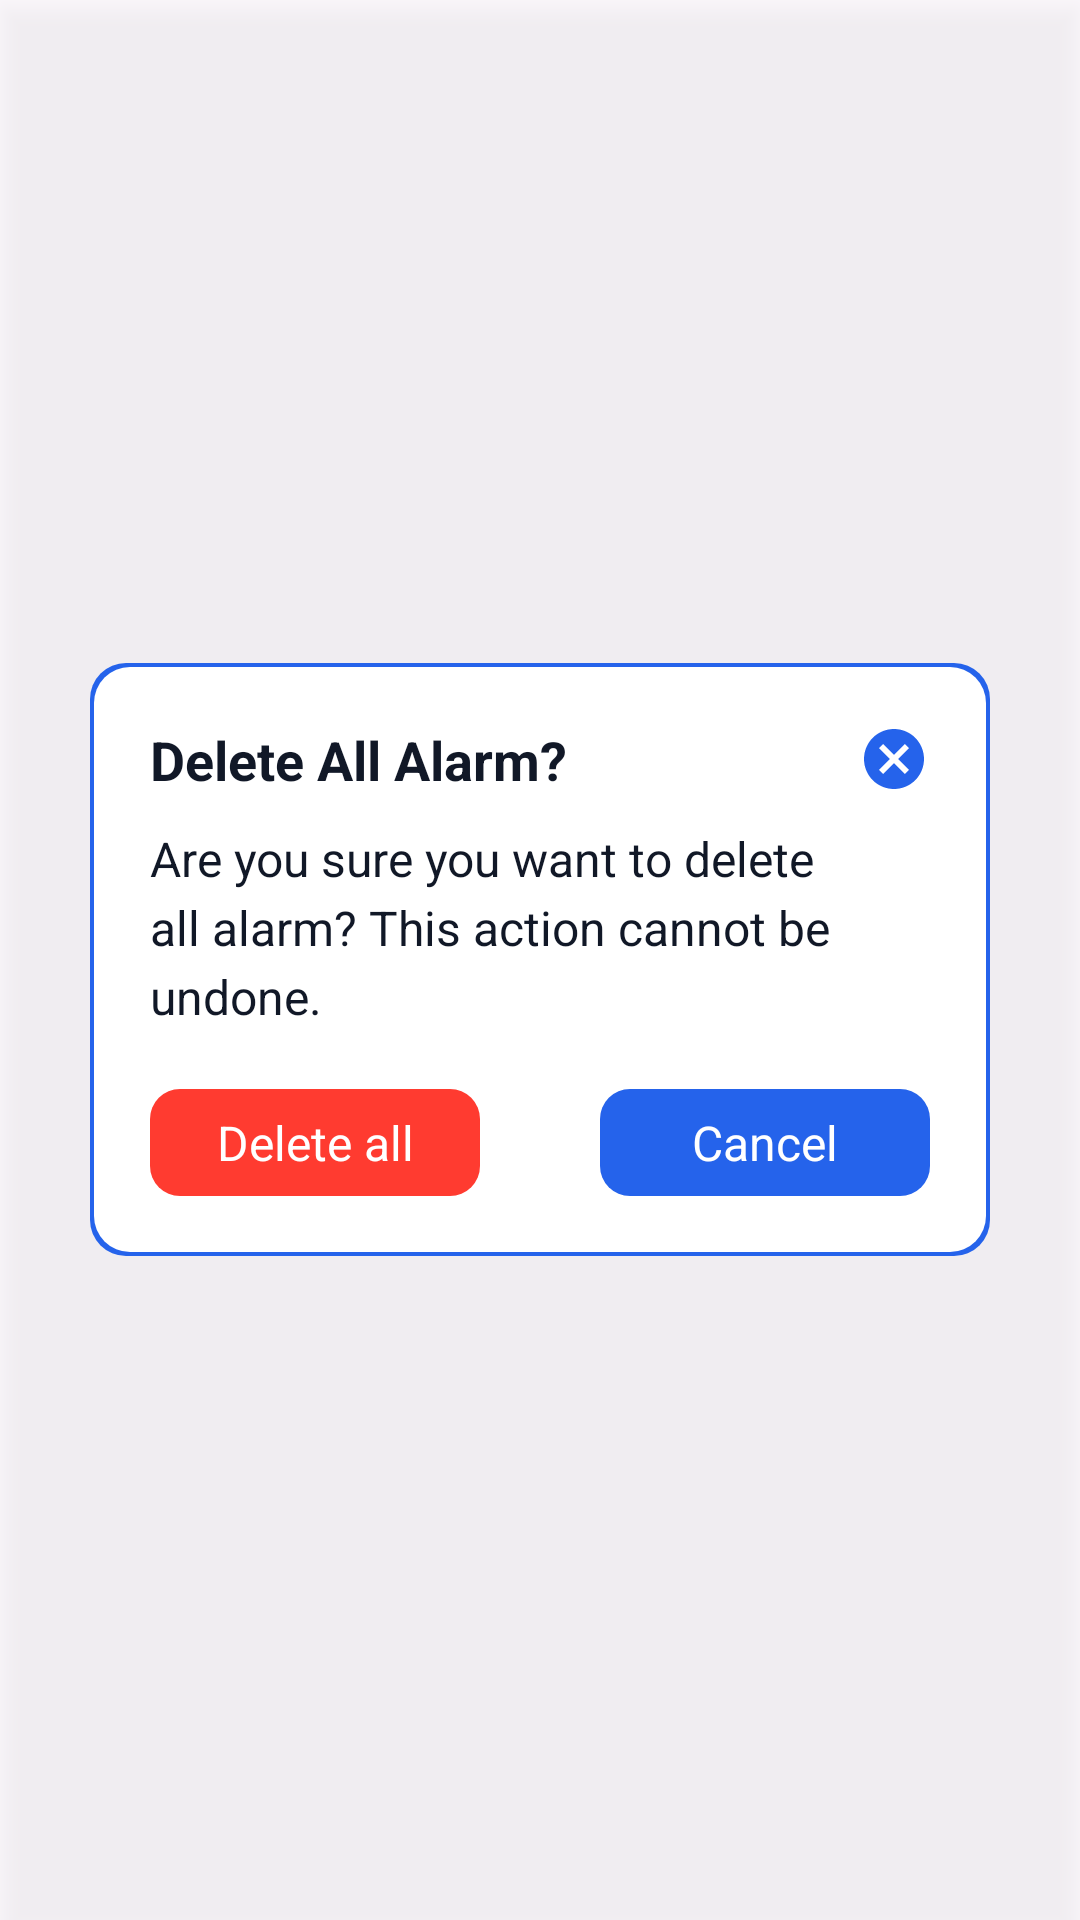

Where to tap for icons on this 1080 x 1920 app screen, as (x=x, y=y):
cancel: (x=894, y=759)
